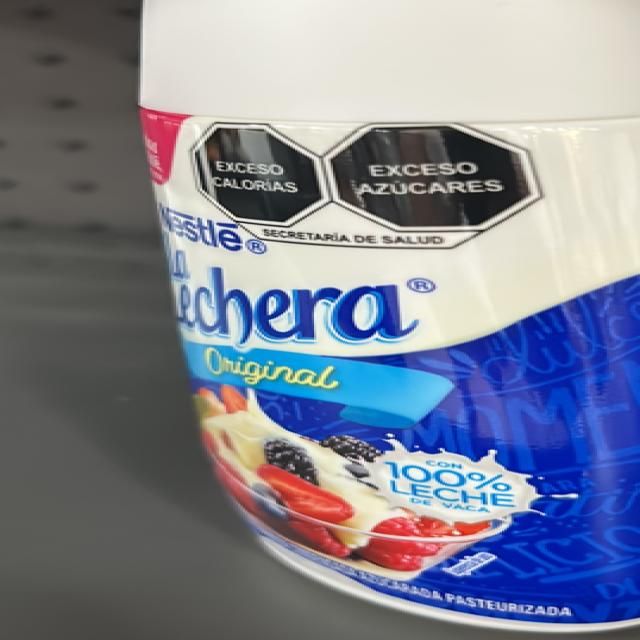nestleLechera: (194, 4, 640, 598)
